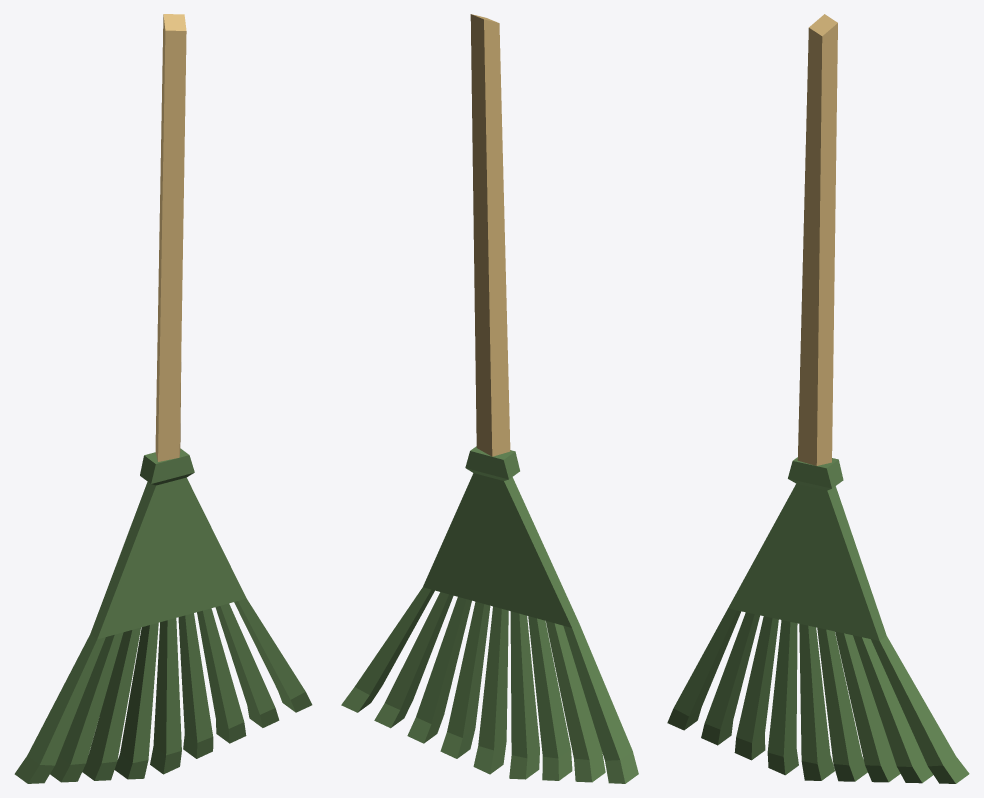
Rendered from Hark.fbx.
The picture shows the model from 3 angles, left to right: view 1: azimuth 30°, elevation 25°; view 2: azimuth 150°, elevation 25°; view 3: azimuth 330°, elevation 25°; orthographic projection.
Parts seen in each view (by area): view 1: Plane.001; view 2: Plane.001; view 3: Plane.001.
Part boxes in pixels (x1,y1,x2,y2): Plane.001: (14,14,312,783); Plane.001: (341,14,638,783); Plane.001: (667,14,969,783).
Size of the model in its own units: 211 by 532 by 23.4.
